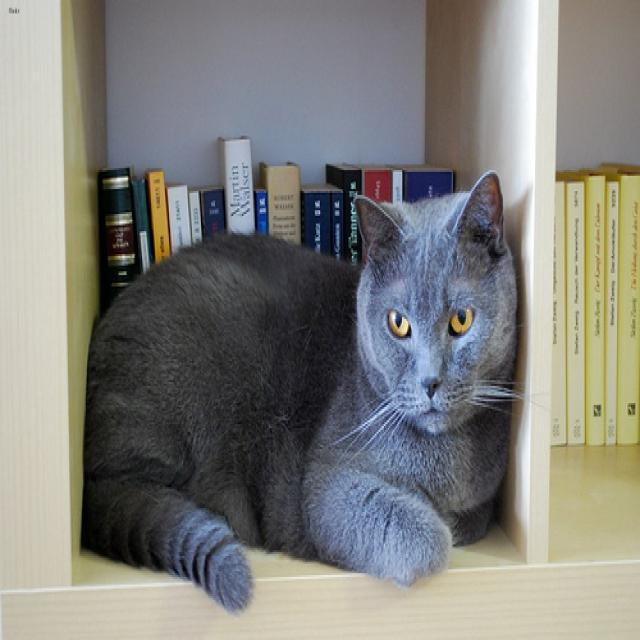British_Shorthair: (344, 166, 535, 461)
